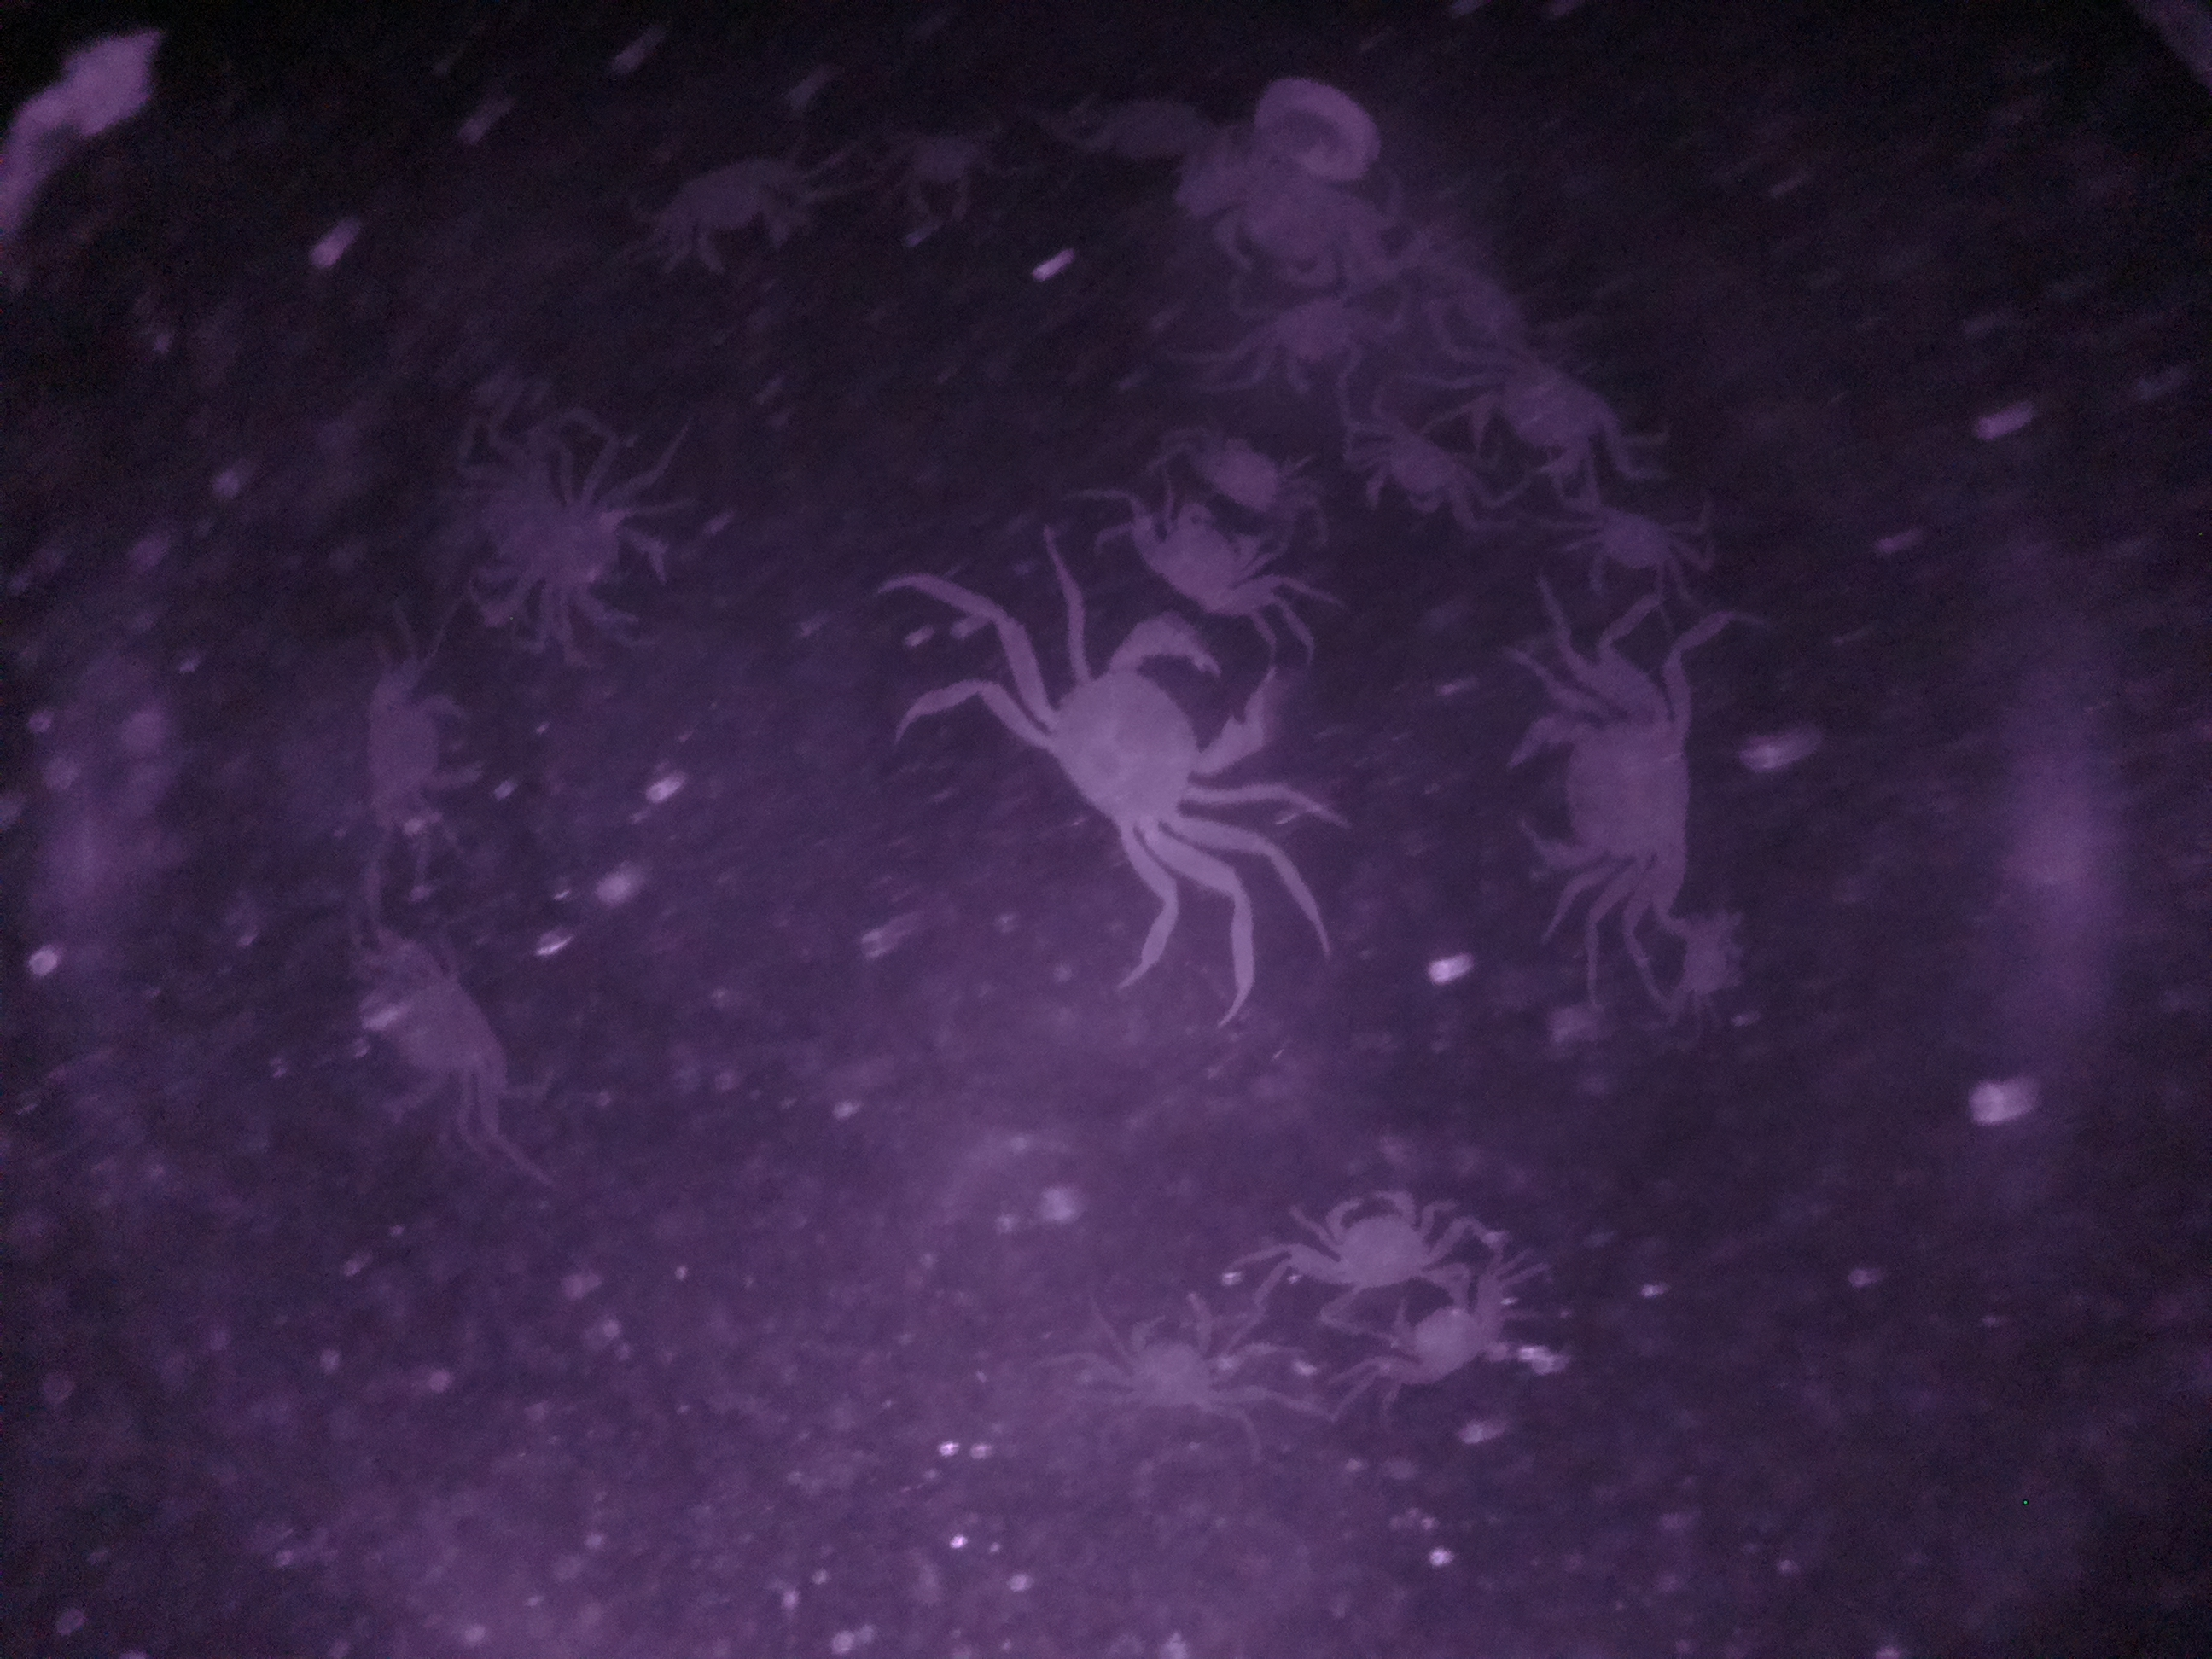Crab: (984, 605, 1285, 861), (1501, 681, 1710, 917), (1453, 336, 1649, 493), (1111, 486, 1294, 620), (1103, 1284, 1259, 1436), (648, 143, 808, 284), (1554, 483, 1723, 615), (1287, 1185, 1463, 1305), (1228, 286, 1388, 396)
